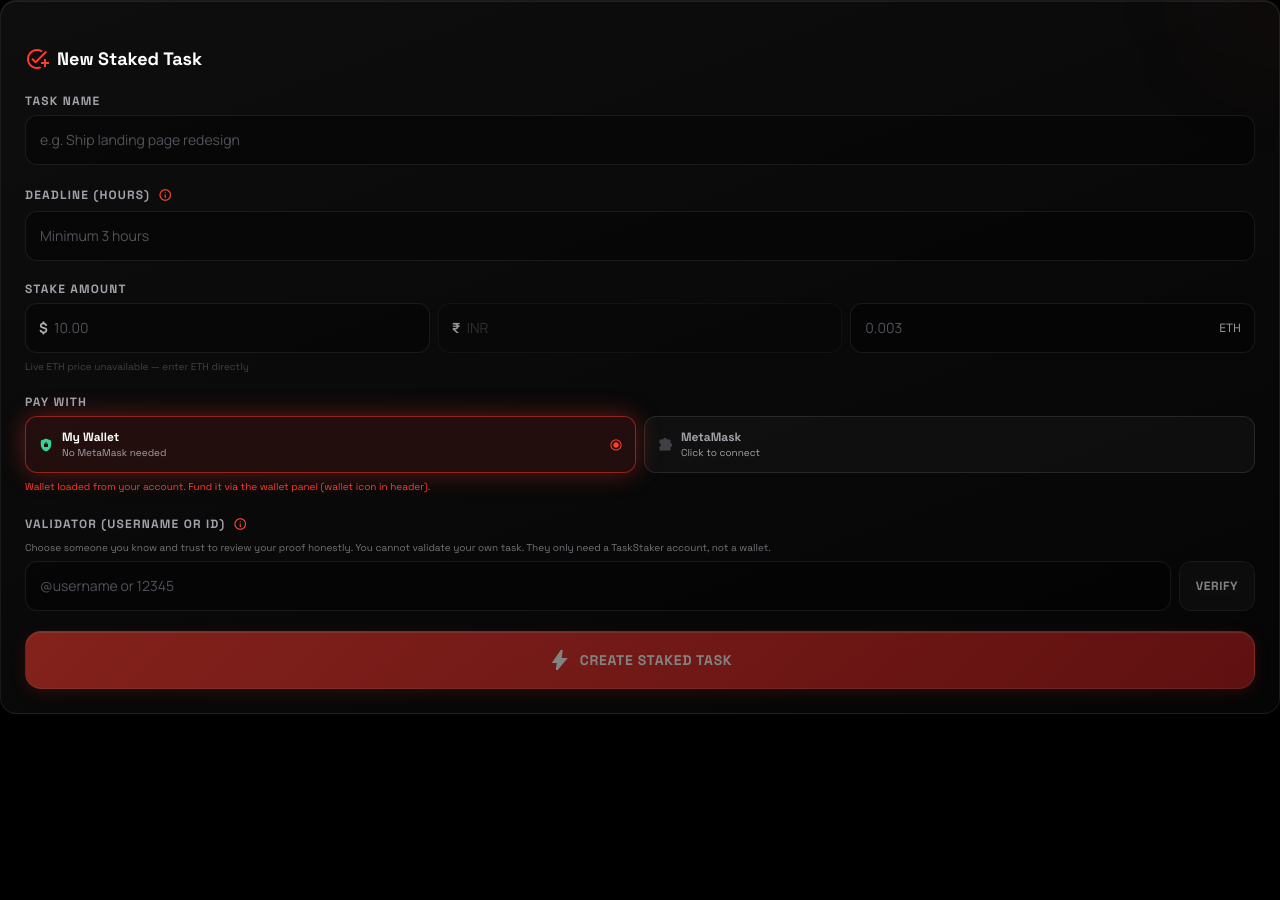
it: accepts an independent validator
The width and height of the screenshot is (1280, 900).
Type "@demo_validator" into the field with placeholder "@username or 12345". click: (598, 586)
box: left=25, top=561, right=1171, bottom=611
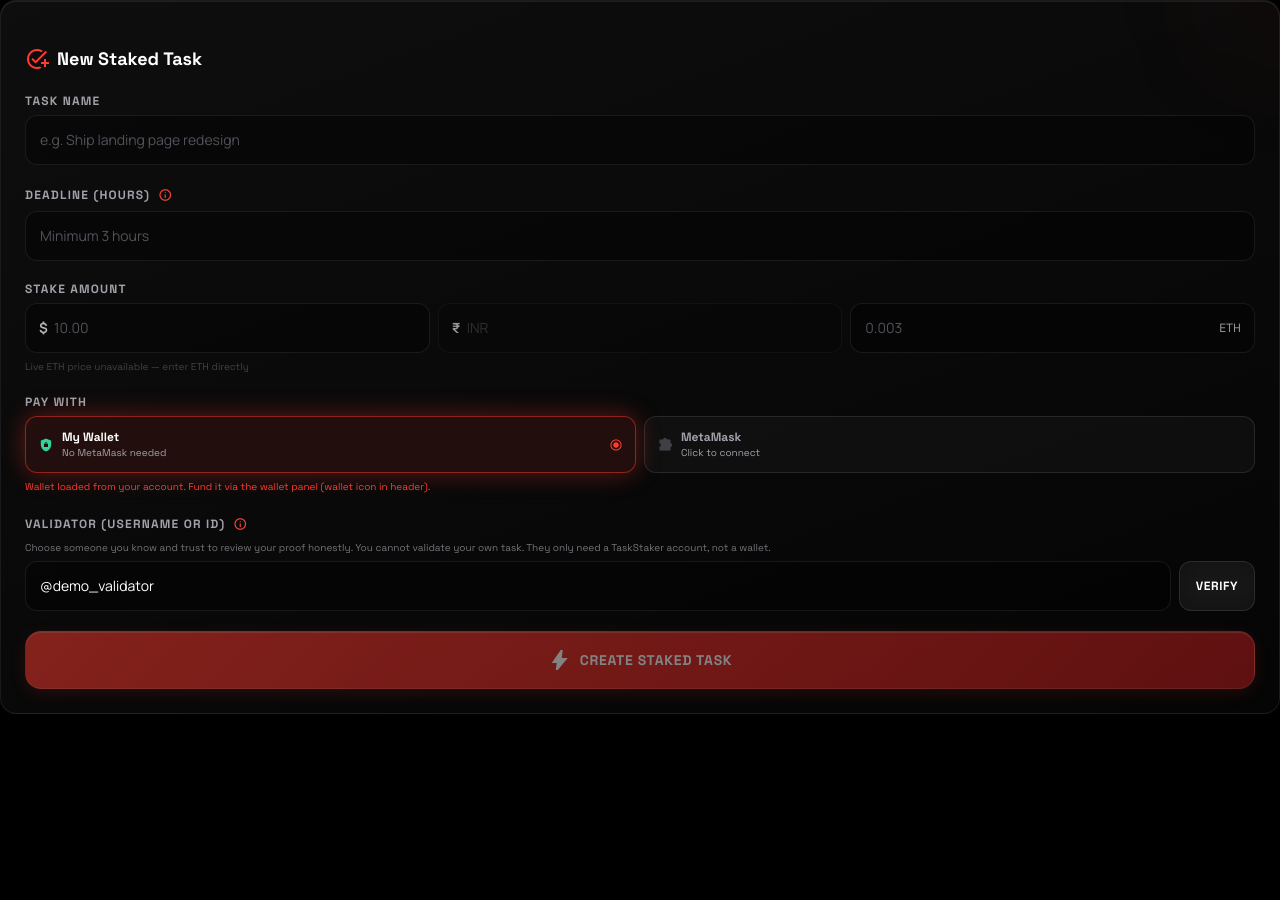
Click the button "Verify". click: (1217, 586)
box: left=1179, top=561, right=1255, bottom=611
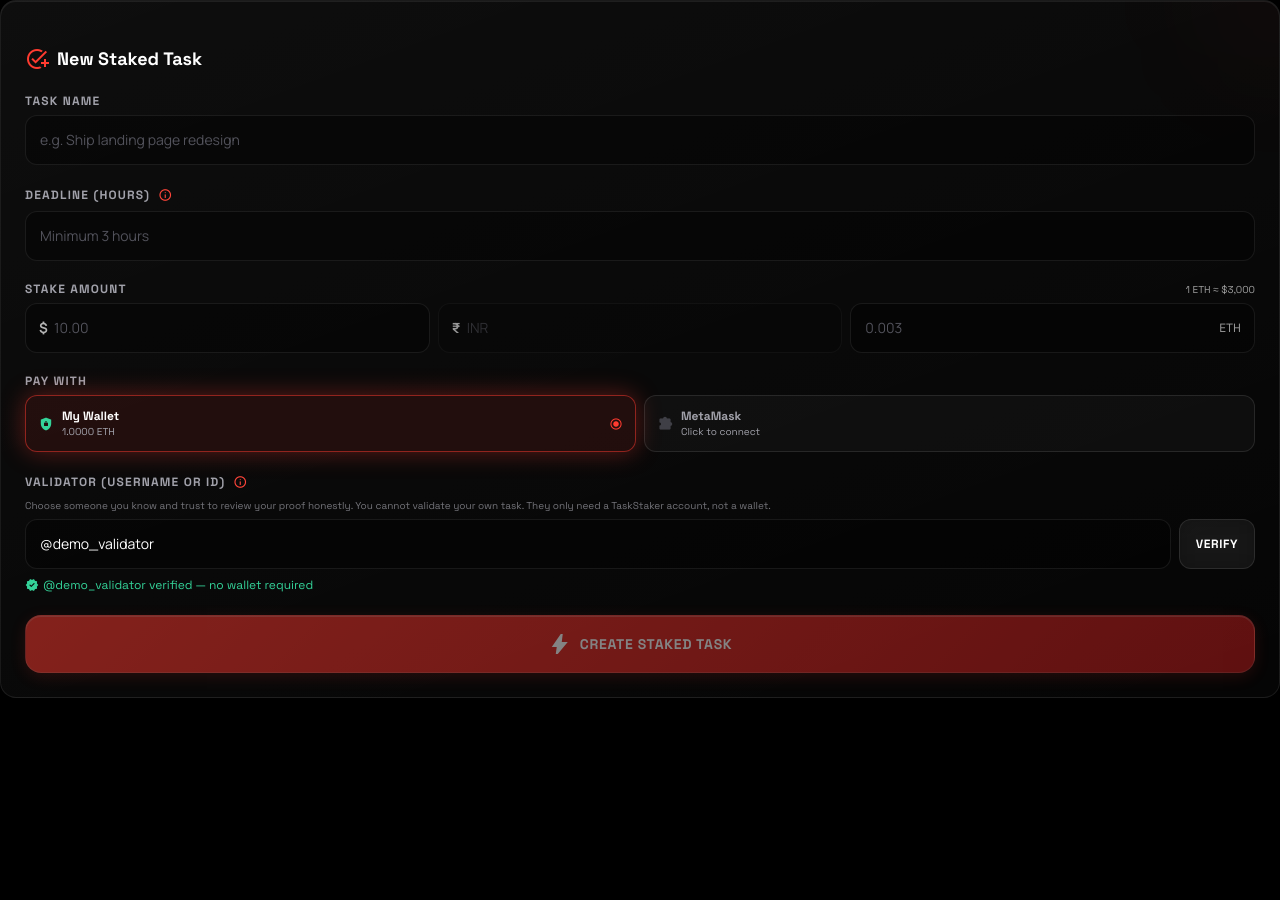
Now the text "@demo_validator verified — no wallet required" is shown, box left=25, top=577, right=313, bottom=593
